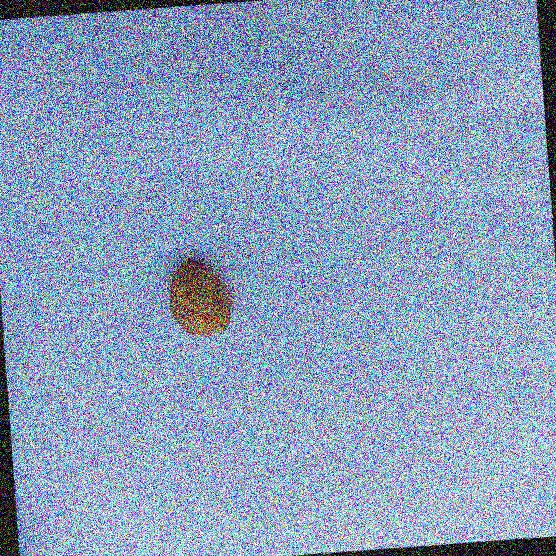grade2: (164, 253, 239, 341)
